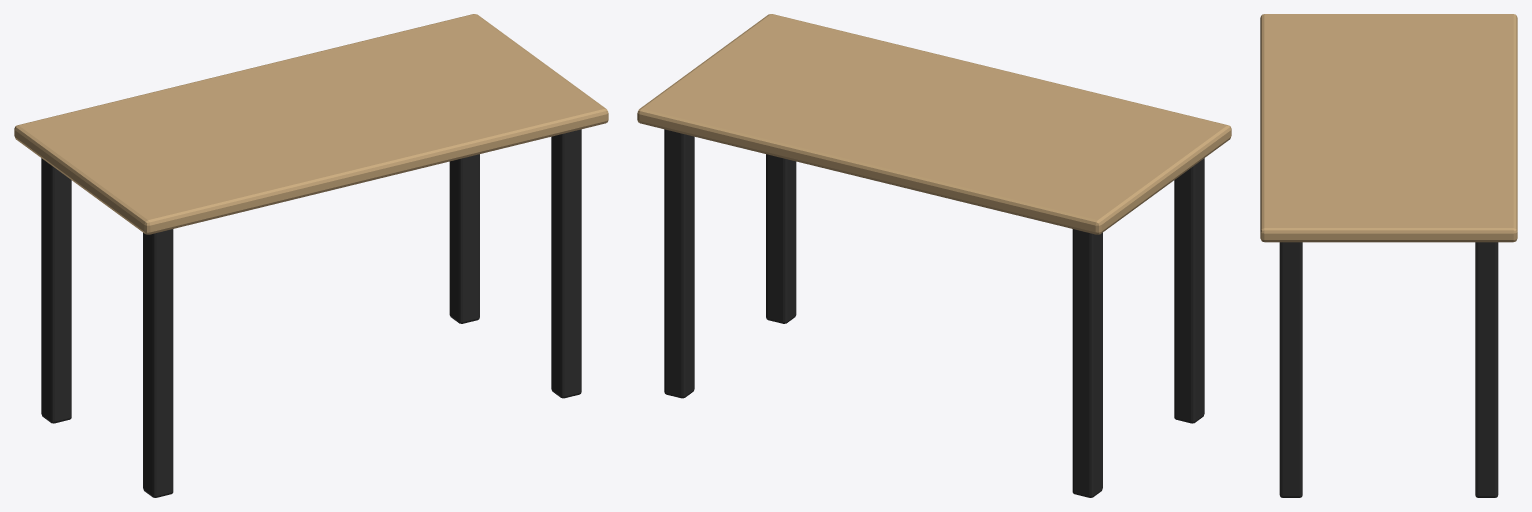
The model's file is deskKid.glb.
The picture shows the model from 3 angles, left to right: view 1: azimuth 30°, elevation 25°; view 2: azimuth 150°, elevation 25°; view 3: azimuth 270°, elevation 25°; orthographic projection. The views are drawn at different scales.
Visible parts, largest first — view 1: top.006, leg-1-1.010, leg1-1.010, leg-11.010, leg11.010; view 2: top.006, leg-11.010, leg11.010, leg-1-1.010, leg1-1.010; view 3: top.006, leg1-1.010, leg11.010.
Part boxes in pixels (<box>): top.006: <box>14,14,608,234</box>; leg-1-1.010: <box>143,229,173,497</box>; leg1-1.010: <box>551,129,581,398</box>; leg-11.010: <box>41,158,71,423</box>; leg11.010: <box>449,154,479,323</box>; top.006: <box>637,14,1231,234</box>; leg-11.010: <box>1072,229,1102,497</box>; leg11.010: <box>664,129,694,398</box>; leg-1-1.010: <box>1174,158,1204,423</box>; leg1-1.010: <box>766,154,796,323</box>; top.006: <box>1260,14,1517,242</box>; leg1-1.010: <box>1279,242,1302,497</box>; leg11.010: <box>1475,242,1498,497</box>.
Bounding box in the file's own units: 1 × 0.595 × 0.5.
